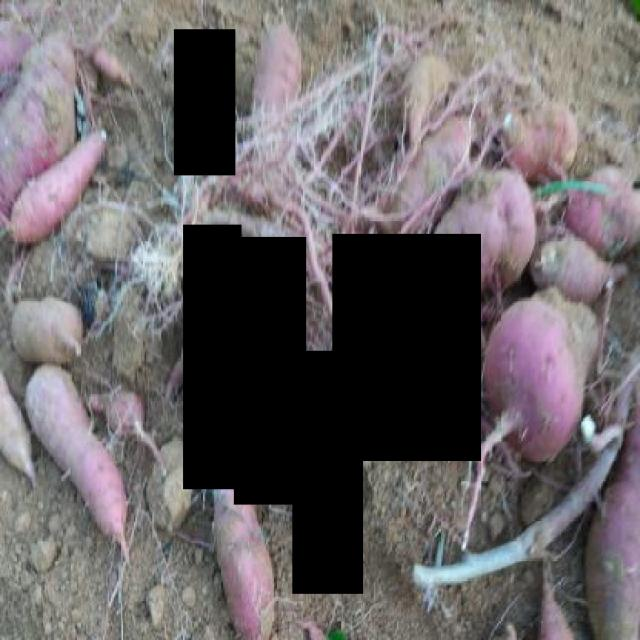Sweet_Potato: (333, 234, 481, 460), (234, 237, 306, 505), (292, 350, 362, 594), (183, 224, 242, 490), (174, 30, 235, 176)
